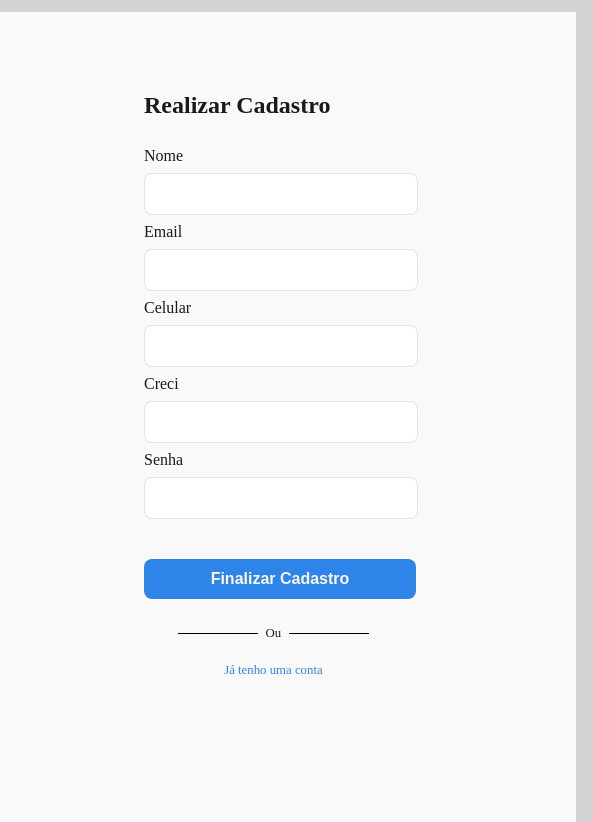
Scenario: Signup related tests › should create an user
The image size is (593, 822).
In the field titled "name": point(281, 194) [144,173,418,215], type "John"
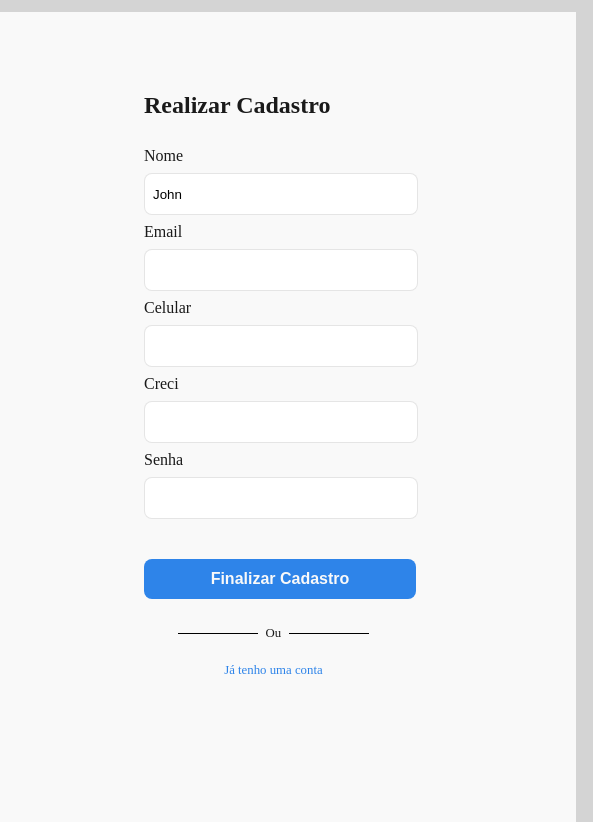
In the field titled "email": point(281, 270) [144,249,418,291], type "johndoe@gmail.com"
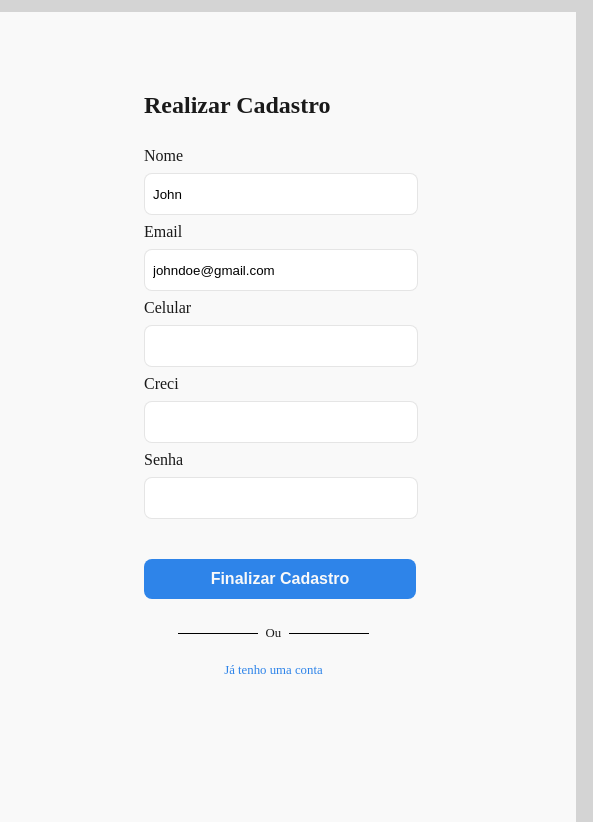
In the field titled "creci": point(281, 422) [144,401,418,443], type "18916-J"
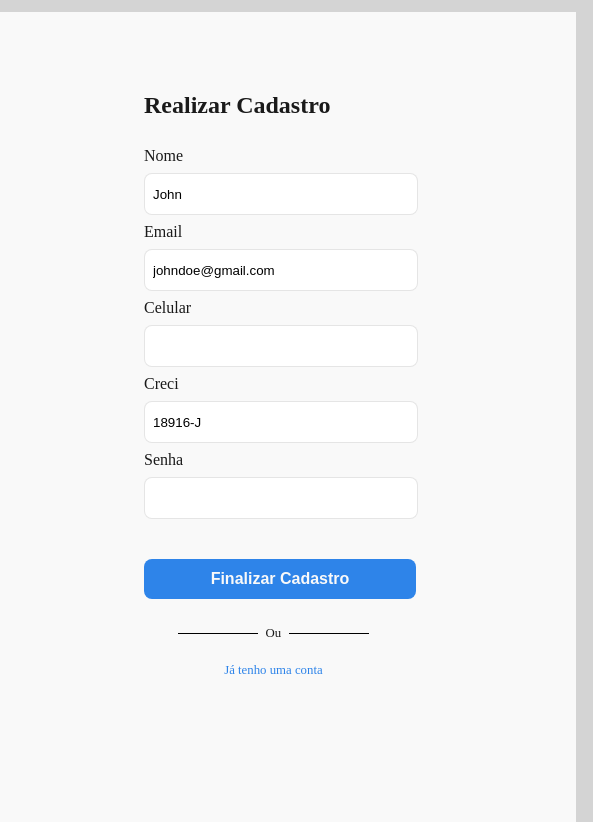
In the field titled "phone": point(281, 346) [144,325,418,367], type "11973321430"
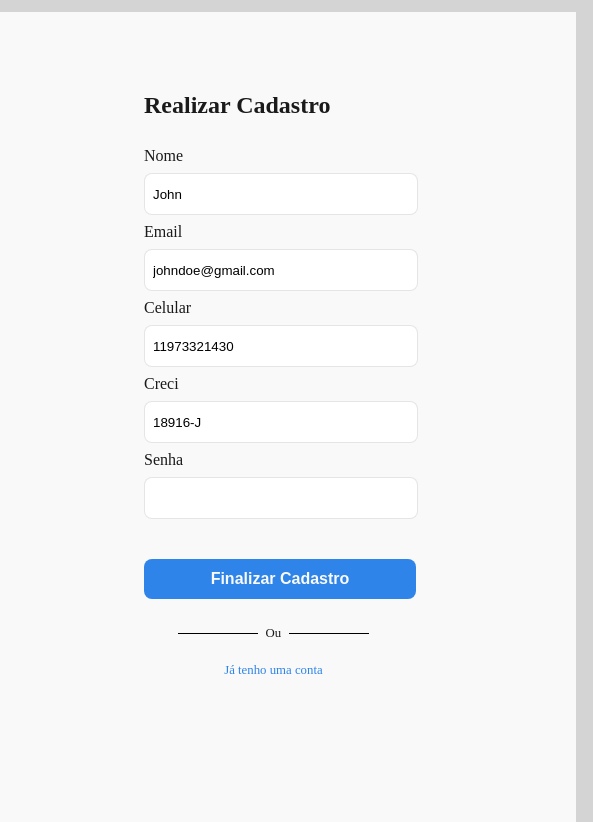
In the password field titled "password": point(281, 498) [144,477,418,519], type "1234abcd"
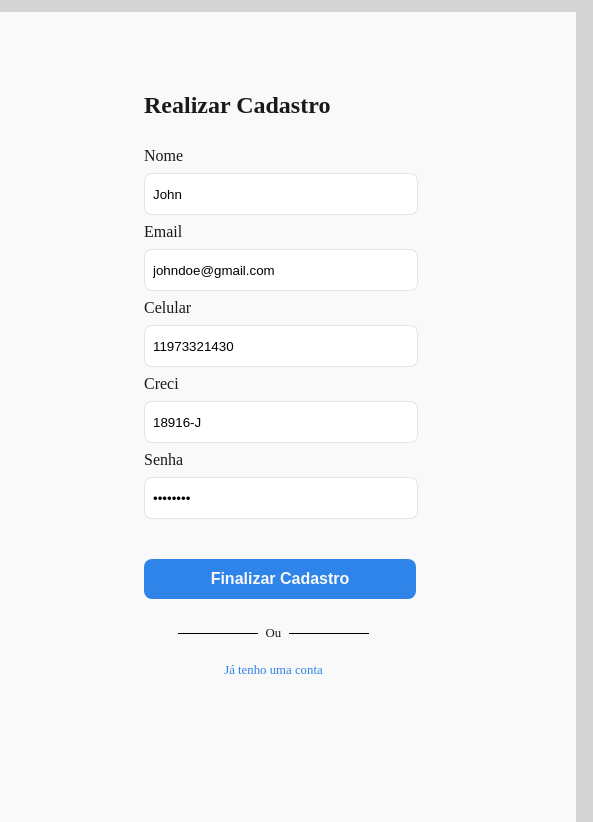
Click the button titled "submit": point(280, 579) [144,559,416,599]
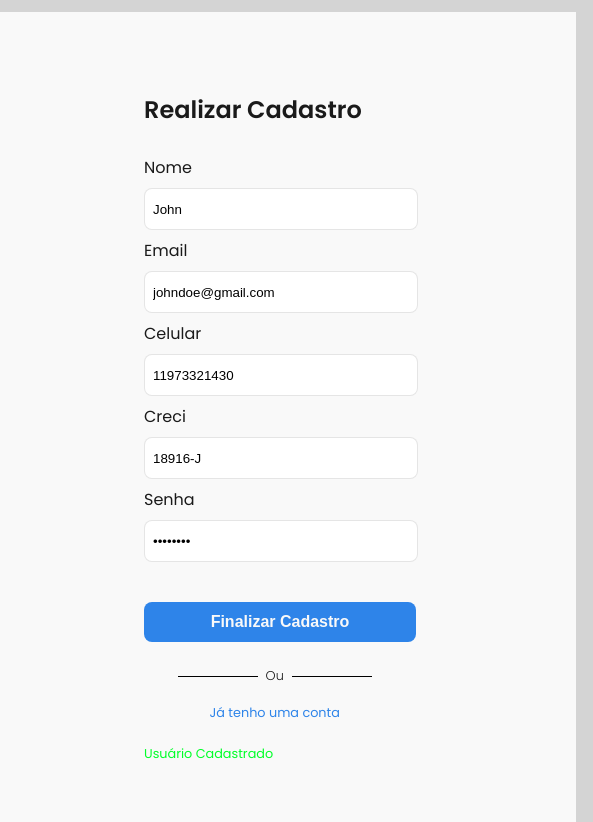
Check: the text titled "response-message" reads "Usuário Cadastrado", box [144,745,273,762]
